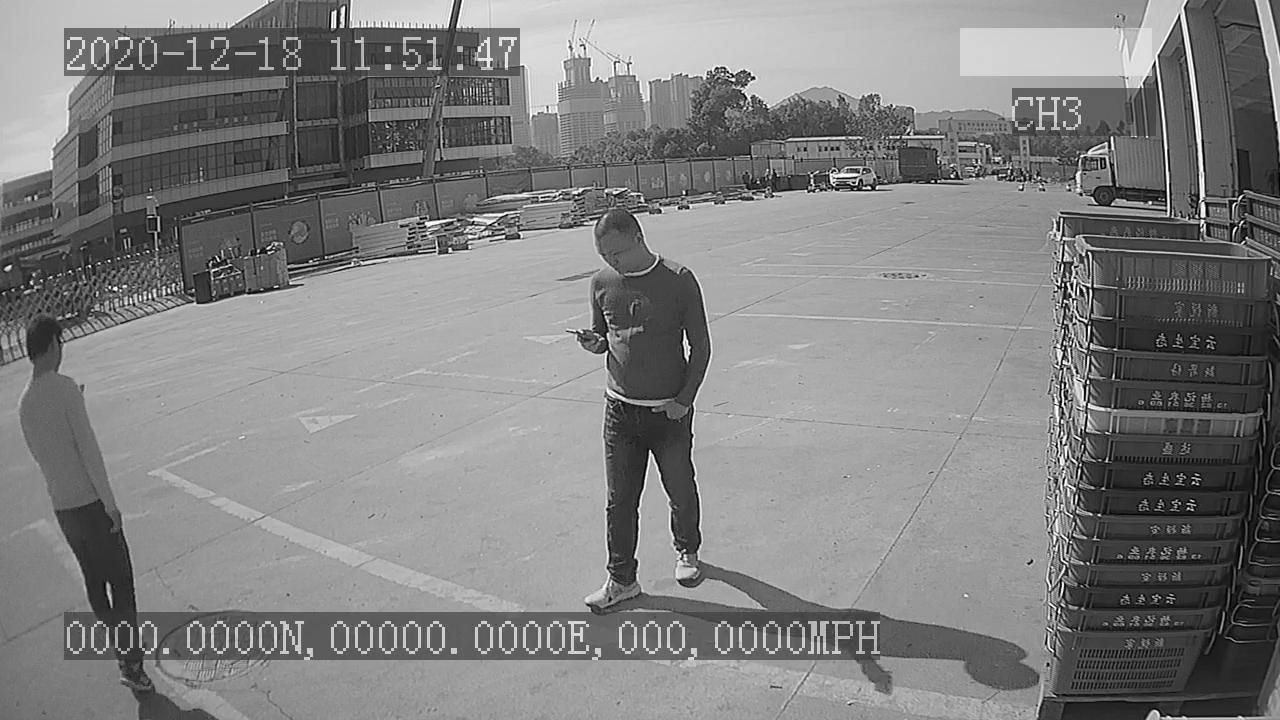person: (560, 199, 720, 611)
